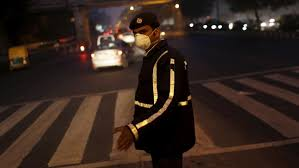mask: (128, 20, 157, 51)
